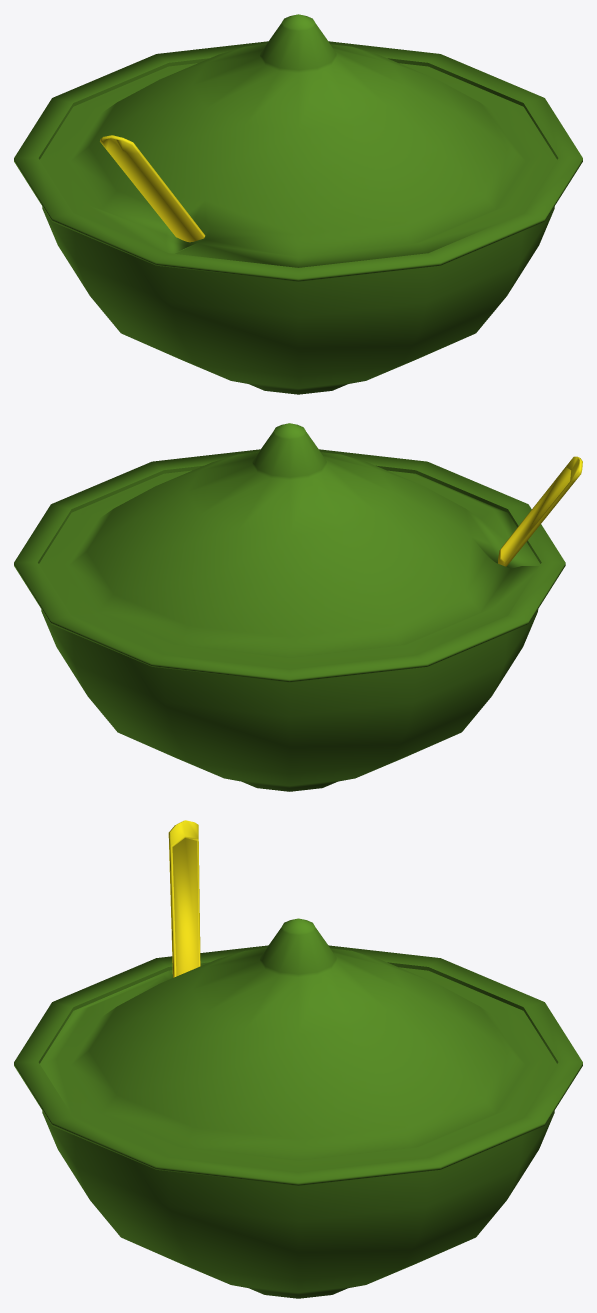
File: WadahSambel.fbx
3 renders of one model, top to bottom at view 1: azimuth 30°, elevation 25°; view 2: azimuth 150°, elevation 25°; view 3: azimuth 270°, elevation 25°, orthographic. The views are drawn at different scales.
Parts seen in each view (by area): view 1: TempatSambel_LOD0; view 2: TempatSambel_LOD0; view 3: TempatSambel_LOD0.
Boxes of the visible parts, x1,y1,x2,y2 form: TempatSambel_LOD0: [14, 14, 582, 394]; TempatSambel_LOD0: [14, 423, 582, 791]; TempatSambel_LOD0: [14, 820, 582, 1298].
Size of what is drawn, in the model's own units: 459 by 311 by 456.
